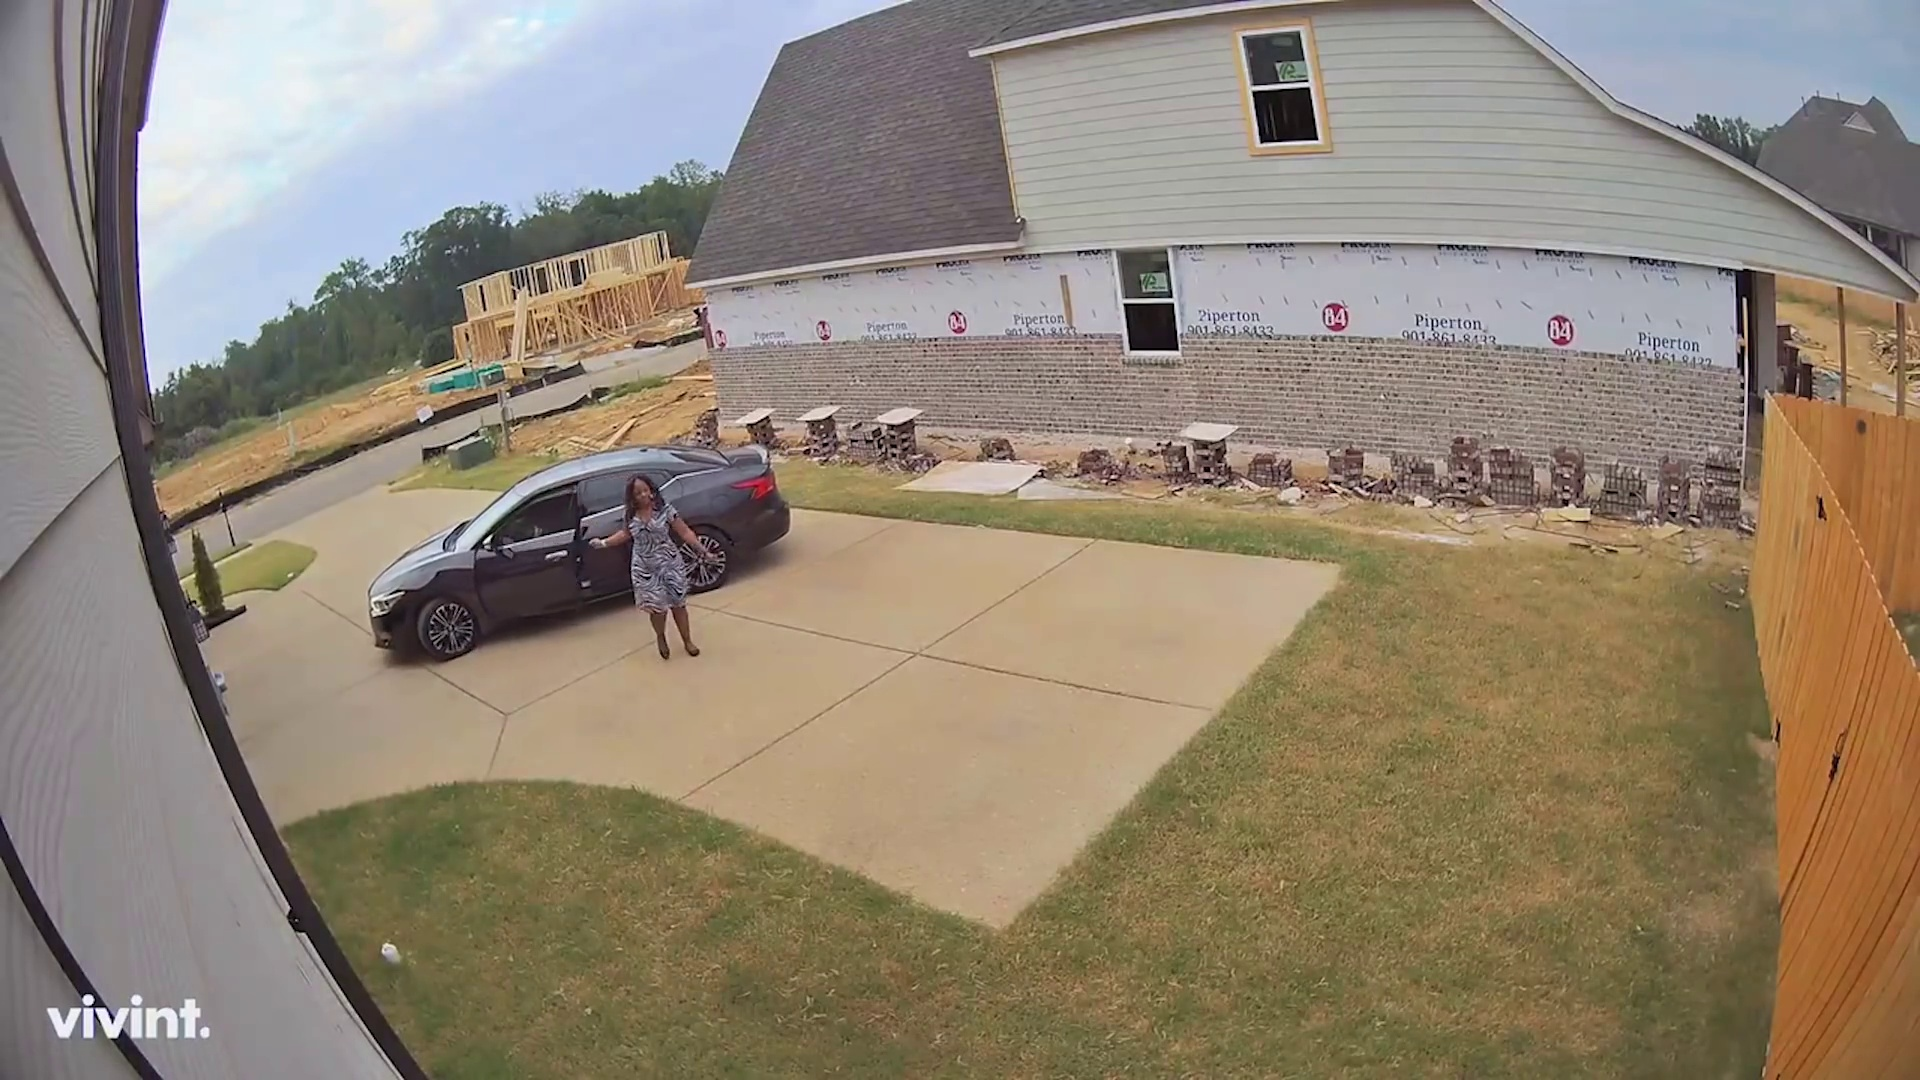face: (629, 482, 653, 505)
